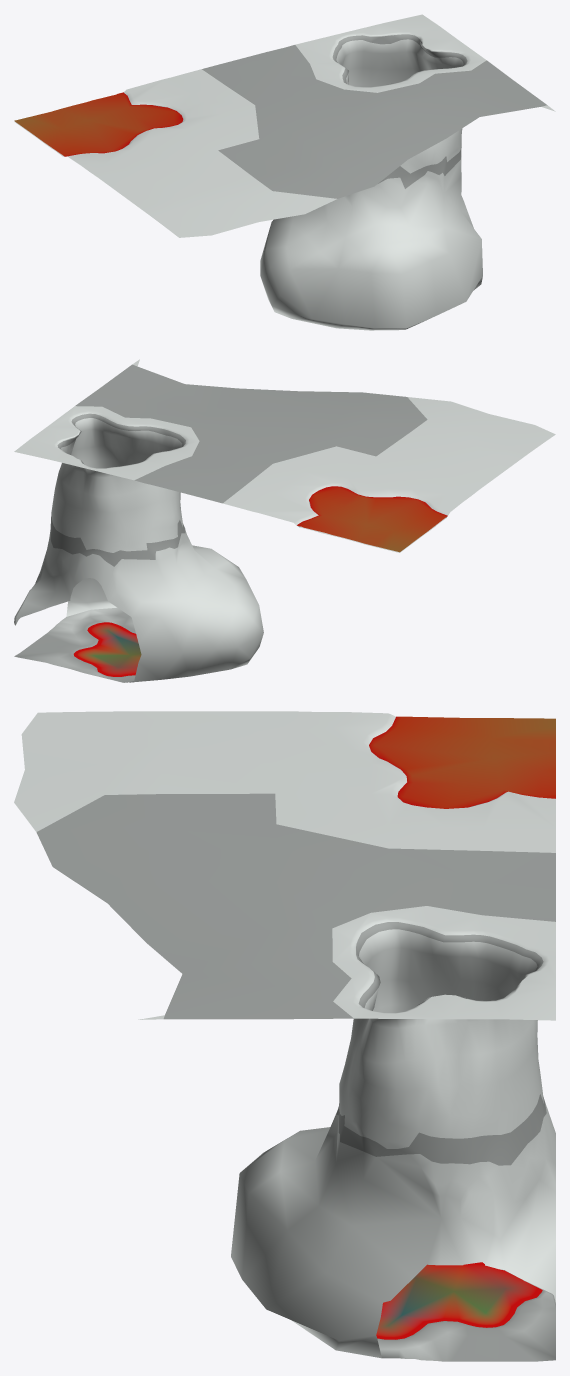
3 views of the same model, one above another, from view 1: azimuth 30°, elevation 25°; view 2: azimuth 150°, elevation 25°; view 3: azimuth 270°, elevation 25° (orthographic). The views are drawn at different scales.
Visible parts, largest first — view 1: G:\FFXIV-MapTools\exports\r2f1\bg\ex1\01_roc_r2\fld\r2f1\bgp (×10); view 2: G:\FFXIV-MapTools\exports\r2f1\bg\ex1\01_roc_r2\fld\r2f1\bgp (×11); view 3: G:\FFXIV-MapTools\exports\r2f1\bg\ex1\01_roc_r2\fld\r2f1\bgp (×11).
Boxes of the visible parts, x1=… form: G:\FFXIV-MapTools\exports\r2f1\bg\ex1\01_roc_r2\fld\r2f1\bgp (×10): x1=14, y1=14, x2=555, y2=330; G:\FFXIV-MapTools\exports\r2f1\bg\ex1\01_roc_r2\fld\r2f1\bgp (×11): x1=14, y1=359, x2=555, y2=682; G:\FFXIV-MapTools\exports\r2f1\bg\ex1\01_roc_r2\fld\r2f1\bgp (×11): x1=14, y1=711, x2=555, y2=1361.
Bounding box in the file's own units: 128 × 66 × 93.81.
